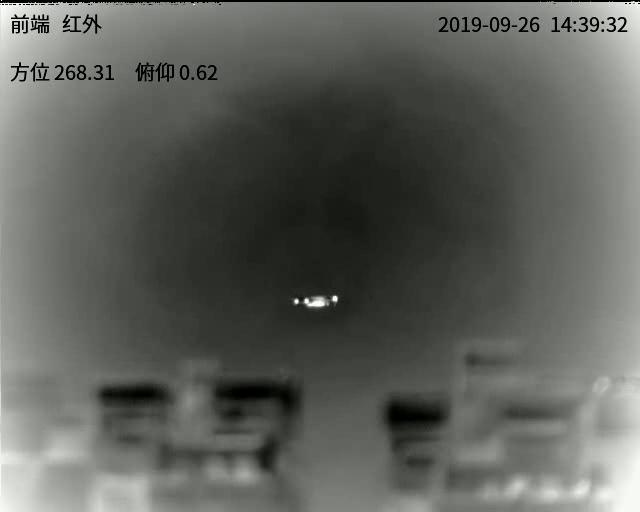DRONE: (288, 293, 340, 312)
